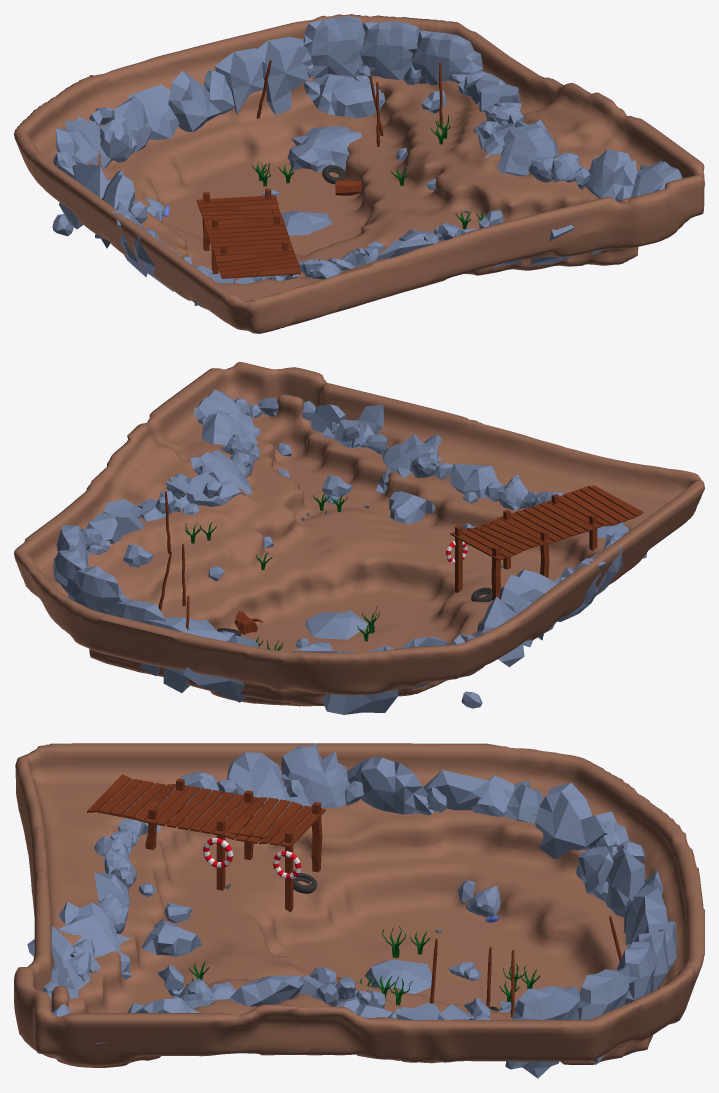
The model's file is pond.glb.
The picture shows the model from 3 angles, top to bottom: view 1: azimuth 30°, elevation 25°; view 2: azimuth 150°, elevation 25°; view 3: azimuth 270°, elevation 25°; orthographic projection. The views are drawn at different scales.
Visible parts, largest first — view 1: Land, Dock, rockLarge.010, rockSpike.002, rockLarge.007, rockLarge.009, rockLarge.002, rockLarge.001, rockLarge.006, rockLarge.005, rockSpike.005, rockSpike.003 (+15 smaller); view 2: Land, Dock, rockLarge.010, rockLarge.012, rockLarge.003, rockFlat2.001, rockSpike.007, rockLarge.005, rockLarge.006, rockFlat2.002, rockSpike.005, rockSpiky.001 (+16 smaller); view 3: Land, Dock, rockSpike.006, rockLarge.012, rockLarge.011, rockLarge.007, rockLarge.003, rockSpike.004, rockLarge.009, rockFlat2.003, rockLarge.006, rockFlat2.001 (+18 smaller).
Part boxes in pixels (left/top/right/bottom): Land: left=14, top=14, right=704, bottom=333; Dock: left=196, top=188, right=300, bottom=278; rockLarge.010: left=303, top=16, right=365, bottom=79; rockSpike.002: left=250, top=37, right=312, bottom=115; rockLarge.007: left=408, top=30, right=483, bottom=84; rockLarge.009: left=360, top=21, right=419, bottom=79; rockLarge.002: left=304, top=74, right=385, bottom=118; rockLarge.001: left=287, top=126, right=361, bottom=172; rockLarge.006: left=497, top=119, right=558, bottom=176; rockLarge.005: left=585, top=149, right=637, bottom=201; rockSpike.005: left=168, top=71, right=221, bottom=131; rockSpike.003: left=215, top=48, right=264, bottom=114; Land: left=14, top=362, right=704, bottom=706; Dock: left=450, top=485, right=643, bottom=600; rockLarge.010: left=66, top=566, right=130, bottom=613; rockLarge.012: left=499, top=570, right=557, bottom=647; rockLarge.003: left=376, top=434, right=441, bottom=493; rockFlat2.001: left=305, top=610, right=368, bottom=639; rockSpike.007: left=322, top=689, right=398, bottom=714; rockLarge.005: left=202, top=409, right=260, bottom=445; rockLarge.006: left=190, top=450, right=252, bottom=494; rockFlat2.002: left=449, top=463, right=498, bottom=498; rockSpike.005: left=183, top=635, right=259, bottom=702; rockSpiky.001: left=389, top=491, right=435, bottom=523; Land: left=14, top=743, right=704, bottom=1067; Dock: left=87, top=774, right=325, bottom=912; rockSpike.006: left=535, top=782, right=616, bottom=858; rockLarge.012: left=346, top=757, right=433, bottom=815; rockLarge.011: left=281, top=743, right=349, bottom=807; rockLarge.007: left=505, top=985, right=579, bottom=1078; rockLarge.003: left=58, top=902, right=132, bottom=980; rockSpike.004: left=227, top=752, right=310, bottom=809; rockLarge.009: left=571, top=966, right=629, bottom=1063; rockFlat2.003: left=606, top=848, right=644, bottom=917; rockLarge.006: left=230, top=975, right=304, bottom=1006; rockFlat2.001: left=365, top=959, right=431, bottom=993.
Bounding box in the file's own units: 63.37 × 15.98 × 64.9.
